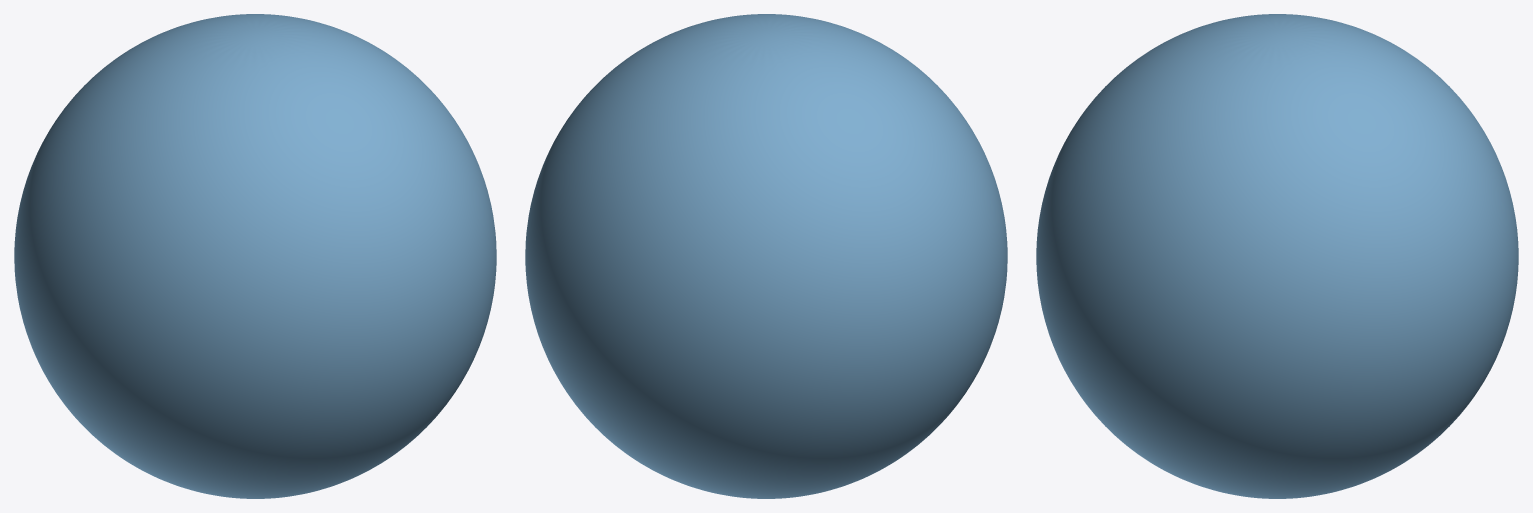
Rendered from celula_profase.glb.
3 views of the same model, side by side, from view 1: azimuth 30°, elevation 25°; view 2: azimuth 150°, elevation 25°; view 3: azimuth 270°, elevation 25° (orthographic).
Visible parts, largest first — view 1: MembranaCelular; view 2: MembranaCelular; view 3: MembranaCelular.
Part boxes in pixels (box(x1,y1,x2,y2)): MembranaCelular: box(14, 14, 496, 498); MembranaCelular: box(525, 14, 1007, 498); MembranaCelular: box(1036, 14, 1518, 498).
Size of the model in its own units: 15.8 by 15.96 by 15.8.
